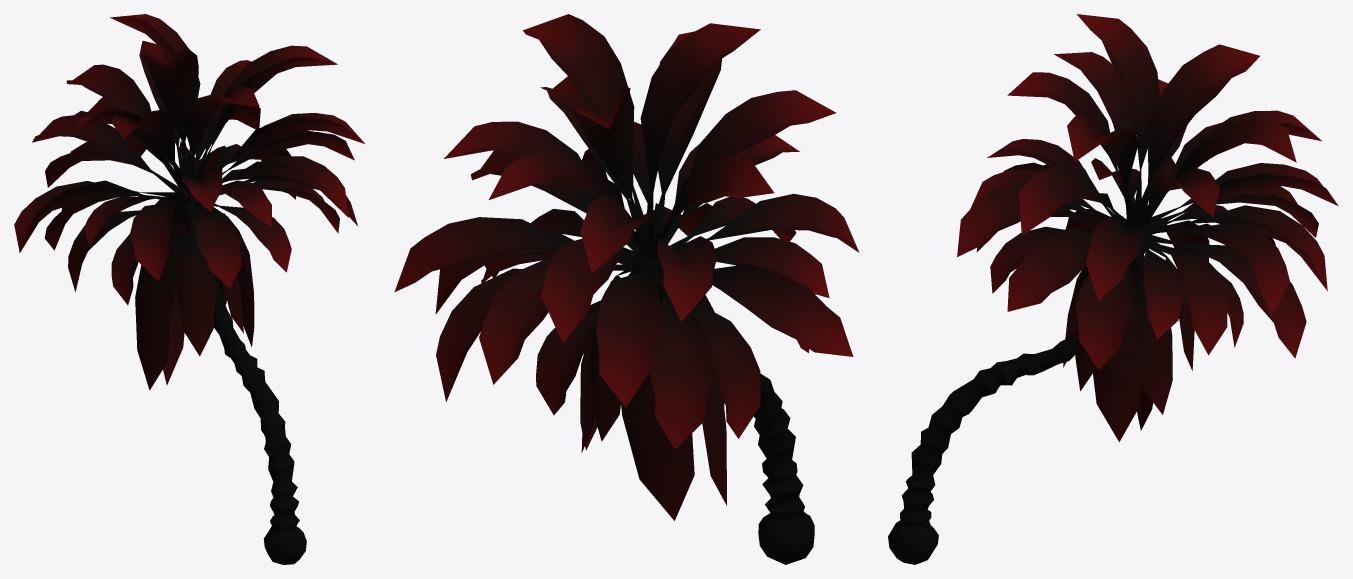
Rendered from TFD_Palm_Tree_02A.fbx.
3 views of the same model, side by side, from view 1: azimuth 30°, elevation 25°; view 2: azimuth 150°, elevation 25°; view 3: azimuth 270°, elevation 25° (orthographic). The views are drawn at different scales.
Parts seen in each view (by area): view 1: TFD_Palm_Tree_02A_LOD0; view 2: TFD_Palm_Tree_02A_LOD0; view 3: TFD_Palm_Tree_02A_LOD0.
Part boxes in pixels (<box>): TFD_Palm_Tree_02A_LOD0: <box>14,14,364,564</box>; TFD_Palm_Tree_02A_LOD0: <box>394,14,859,564</box>; TFD_Palm_Tree_02A_LOD0: <box>888,14,1338,564</box>.
Size of the model in its own units: 410 by 588 by 459.
